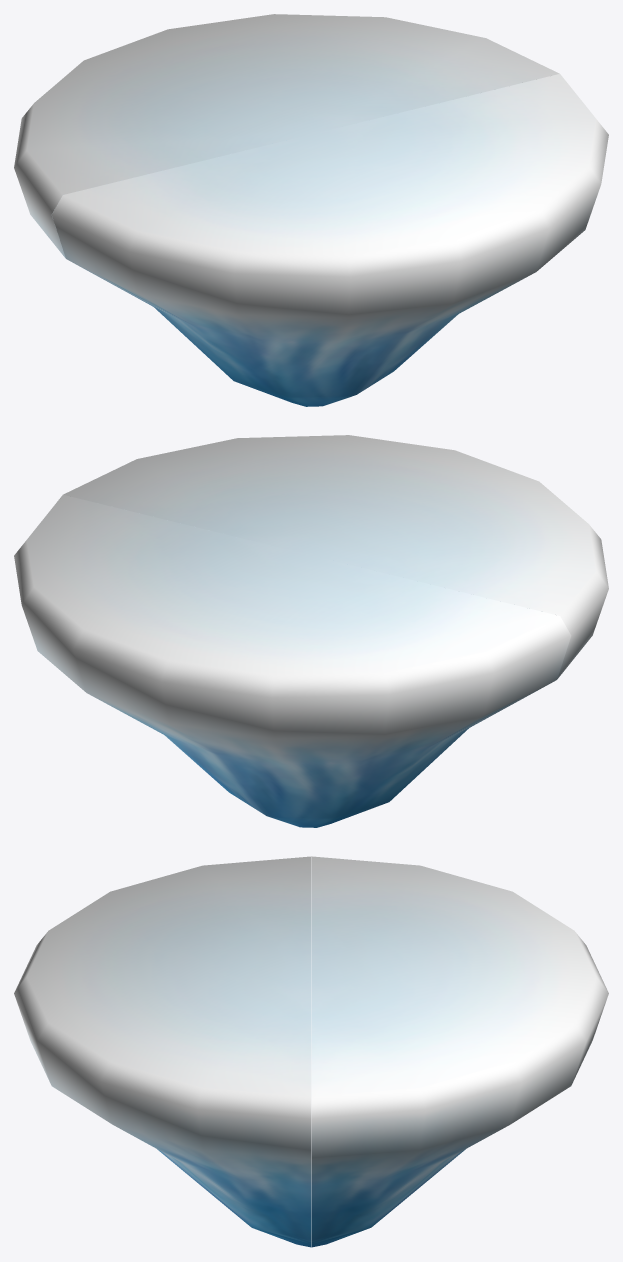
Rendered from island.FBX.
The picture shows the model from 3 angles, top to bottom: view 1: azimuth 30°, elevation 25°; view 2: azimuth 150°, elevation 25°; view 3: azimuth 270°, elevation 25°; orthographic projection.
Parts seen in each view (by area): view 1: Island, Cylinder002; view 2: Cylinder002, Island; view 3: Island, Cylinder002.
Part boxes in pixels (bbox=[...]): Island: bbox=[52, 74, 608, 406]; Cylinder002: bbox=[14, 14, 559, 378]; Cylinder002: bbox=[14, 495, 571, 827]; Island: bbox=[63, 435, 608, 678]; Island: bbox=[14, 856, 311, 1247]; Cylinder002: bbox=[311, 856, 608, 1247].
Size of the model in its own units: 57.64 by 28.52 by 57.65.
